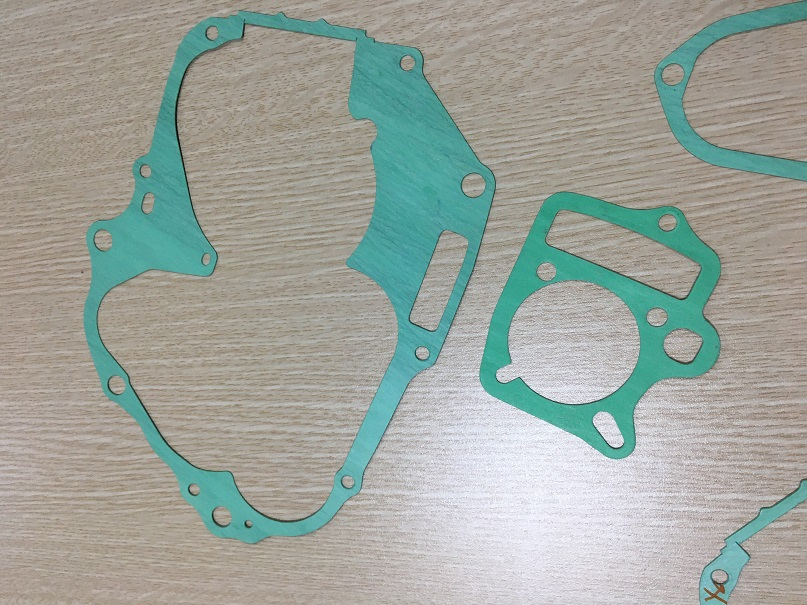type3: (63, 2, 502, 549)
type4: (467, 181, 743, 464)
